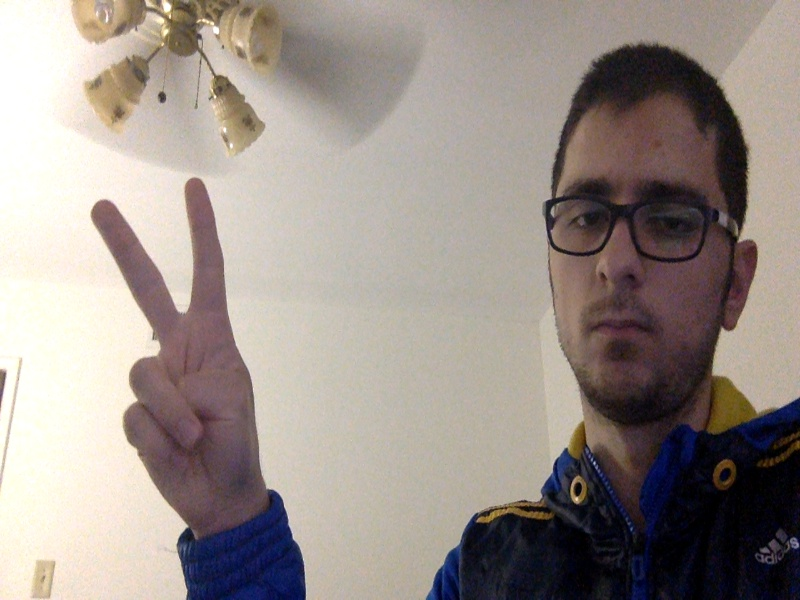2-hand: (90, 177, 261, 540)
